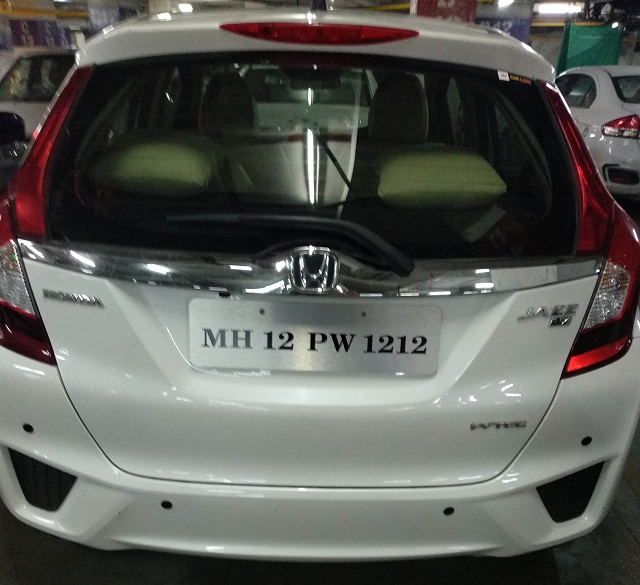licenseplate: (187, 294, 443, 378)
